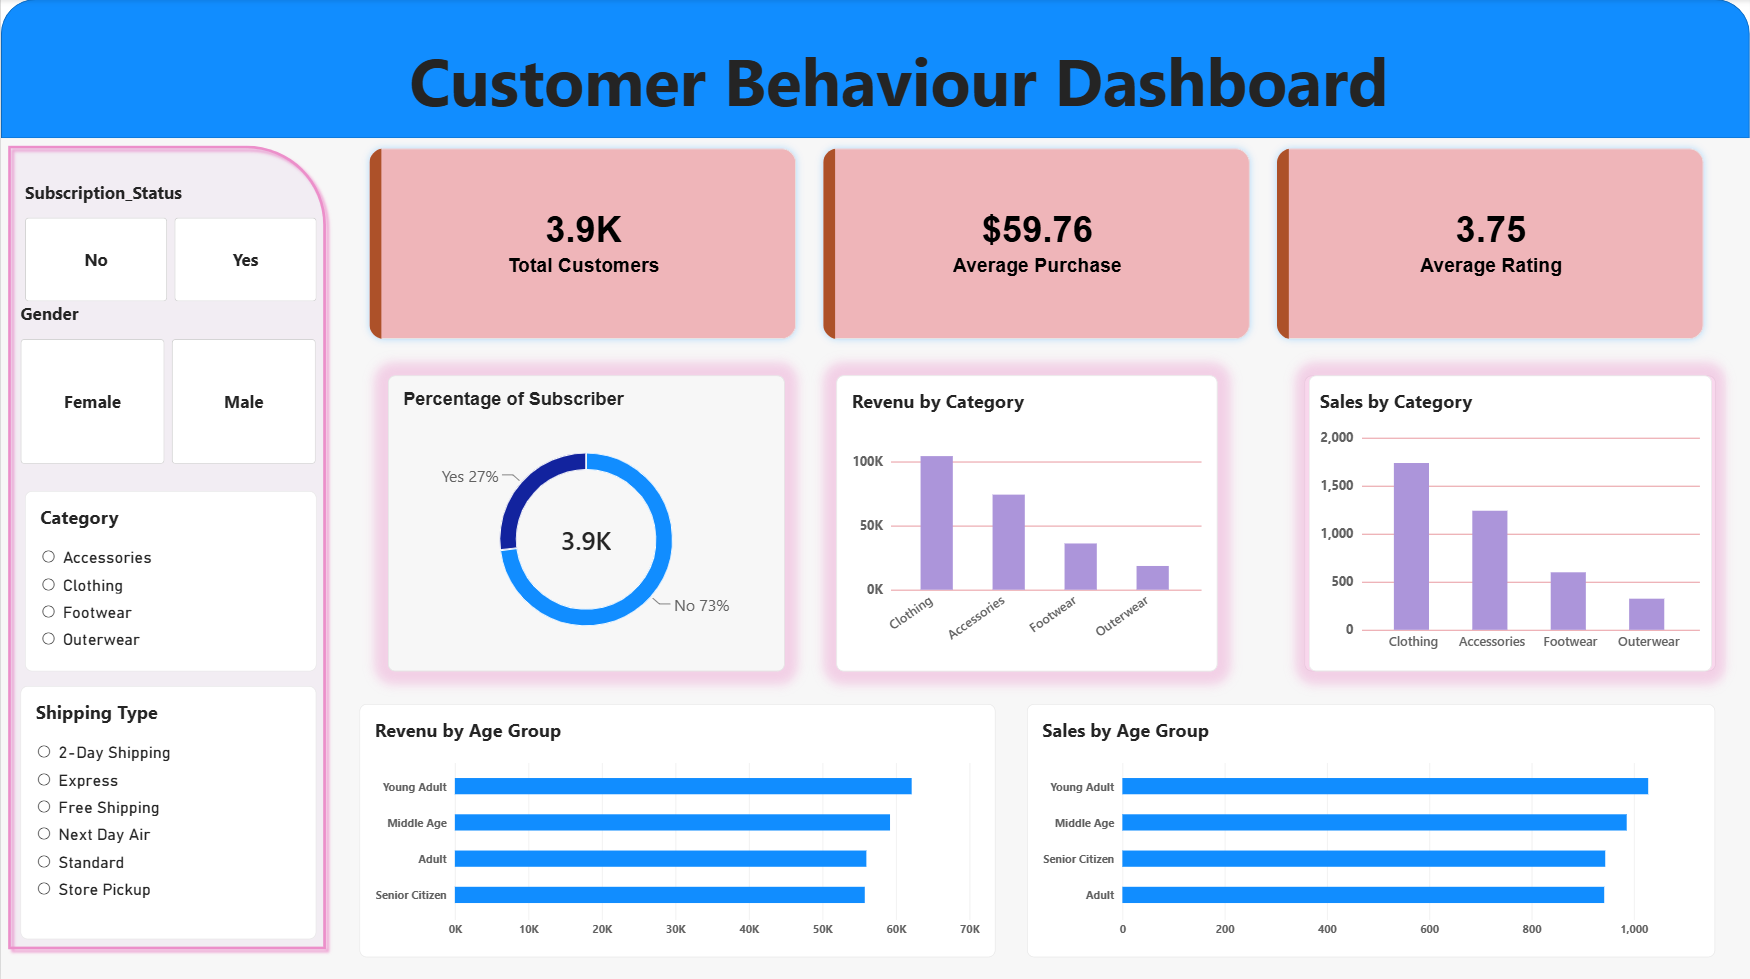

The page's visual inventory and layout, read from the dashboard file:
{"tool":"powerbi","page":{"name":"Page 1","canvas":[1920,1080],"ordinal":0},"visuals":[{"type":"cardVisual","fields":{"Data":["customer_behavior customer.Total No. of Customers","customer_behavior customer.Average Purchase Amount","customer_behavior customer.Average Rating"]},"box":[393.3,153.3,1488.9,231.1],"z":0},{"type":"shape","box":[0,0,1919.3,152.9],"z":1},{"type":"textbox","box":[133.6,38.8,1703.9,109.9],"z":2},{"type":"donutChart","title":"Percentage of Subscriber","fields":{"Category":["customer_behavior customer.Subscription_Status"],"Y":["Count(customer_behavior customer.Customer_ID)"]},"box":[424.4,413.3,435.6,324.4],"z":3},{"type":"shape","box":[917.8,413.3,417.8,324.4],"z":4},{"type":"lineClusteredColumnComboChart","title":"Revenu by Category","fields":{"Category":["customer_behavior customer.Category"],"Y":["Sum(customer_behavior customer.Purchase_amount)"]},"box":[917.8,413.3,417.8,324.4],"z":5},{"type":"shape","box":[424.4,413.3,435.6,324.4],"z":6},{"type":"lineClusteredColumnComboChart","title":"Sales by Category","fields":{"Category":["customer_behavior customer.Category"],"Y":["CountNonNull(customer_behavior customer.Customer_ID)"]},"box":[1431.1,413.3,451.1,324.4],"z":7},{"type":"shape","box":[1435.6,413.3,442.2,324.4],"z":8},{"type":"clusteredBarChart","title":"Revenu by Age Group","fields":{"Category":["customer_behavior customer.Age_group"],"Y":["Sum(customer_behavior customer.Purchase_amount)"]},"box":[393.3,773.3,697.8,277.8],"z":9},{"type":"clusteredBarChart","title":"Sales by Age Group","fields":{"Category":["customer_behavior customer.Age_group"],"Y":["CountNonNull(customer_behavior customer.Customer_ID)"]},"box":[1126.7,773.3,755.6,277.8],"z":10},{"type":"shape","box":[0,153.3,364.4,897.8],"z":11},{"type":"listSlicer","fields":{"Values":["customer_behavior customer.Category"]},"box":[26.7,540,320,197.8],"z":14},{"type":"listSlicer","title":"Shipping Type","fields":{"Values":["customer_behavior customer.Shipping_Type"]},"box":[22.2,753.3,324.4,277.8],"z":15},{"type":"advancedSlicerVisual","fields":{"Values":["customer_behavior customer.Gender"]},"box":[22.2,333.3,324.4,177.8],"z":16},{"type":"advancedSlicerVisual","fields":{"Values":["customer_behavior customer.Subscription_Status"]},"box":[26.7,200,320,133.3],"z":17}]}

Visuals, with their boxes in screenshot pixels (x1, y1, x2, y2), scaled from the page's 1920x1080 canvas onto the 1750x979 screenshot:
cardVisual - customer_behavior customer.Total No. of Customers x customer_behavior customer.Average Purchase Amount: 358 139 1716 348
shape: 0 0 1749 139
textbox: 122 35 1675 135
"Percentage of Subscriber" donutChart: 387 375 784 669
shape: 837 375 1217 669
"Revenu by Category" lineClusteredColumnComboChart: 837 375 1217 669
shape: 387 375 784 669
"Sales by Category" lineClusteredColumnComboChart: 1304 375 1716 669
shape: 1308 375 1712 669
"Revenu by Age Group" clusteredBarChart: 358 701 994 953
"Sales by Age Group" clusteredBarChart: 1027 701 1716 953
shape: 0 139 332 953
listSlicer - customer_behavior customer.Category: 24 490 316 669
"Shipping Type" listSlicer: 20 683 316 935
advancedSlicerVisual - customer_behavior customer.Gender: 20 302 316 463
advancedSlicerVisual - customer_behavior customer.Subscription_Status: 24 181 316 302
